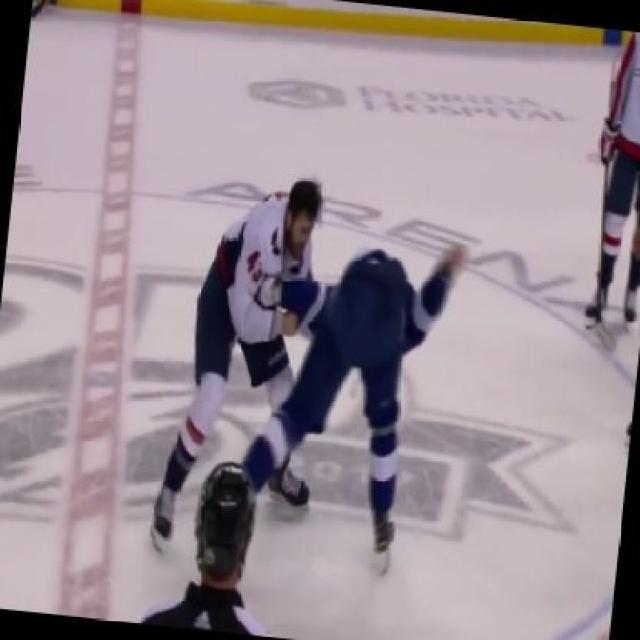fight: (149, 180, 470, 570)
non-fight: (580, 24, 638, 333)
